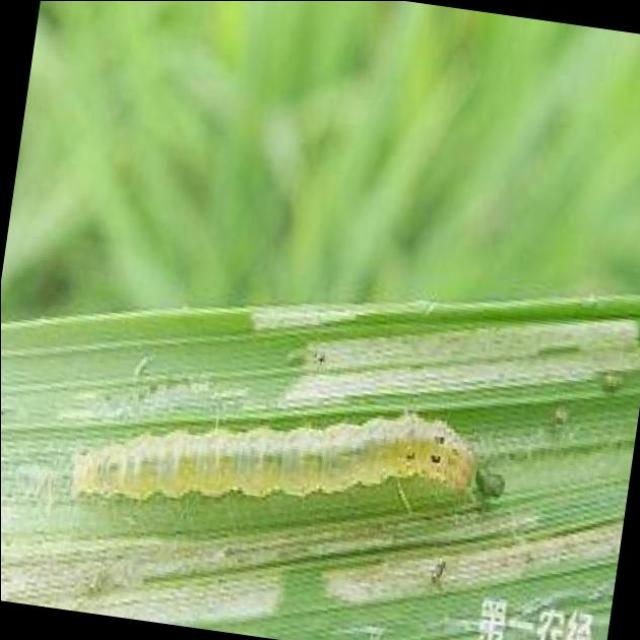leaf folder: (71, 414, 478, 498)
